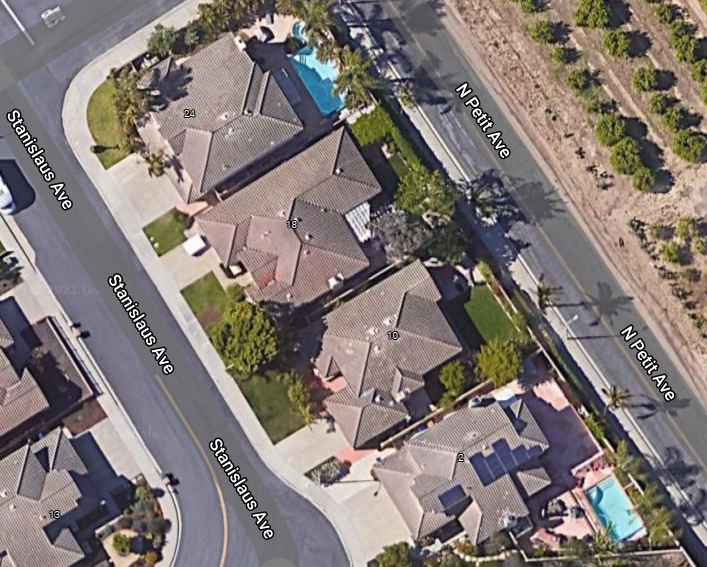poolww: (279, 37, 367, 121)
